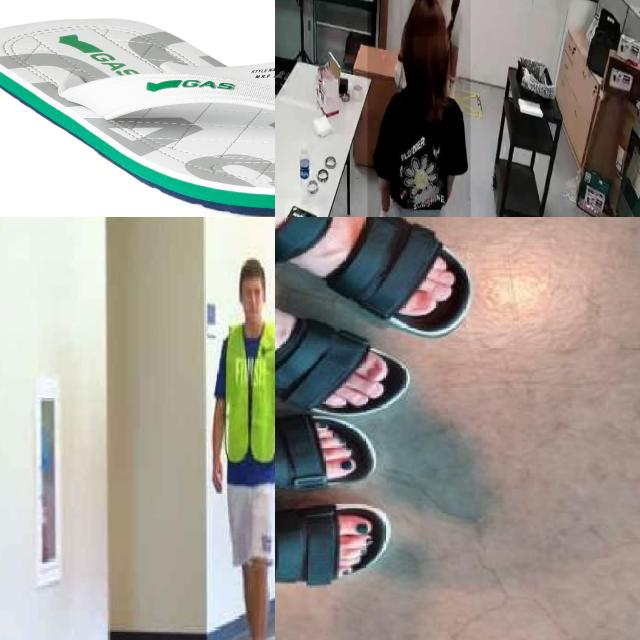Sandals: (0, 15, 275, 217), (275, 217, 473, 340), (275, 498, 411, 597), (275, 414, 413, 487)
head_nohelmet: (400, 0, 447, 37)
person: (367, 0, 470, 217), (413, 0, 470, 77)
vest: (217, 323, 275, 479)
